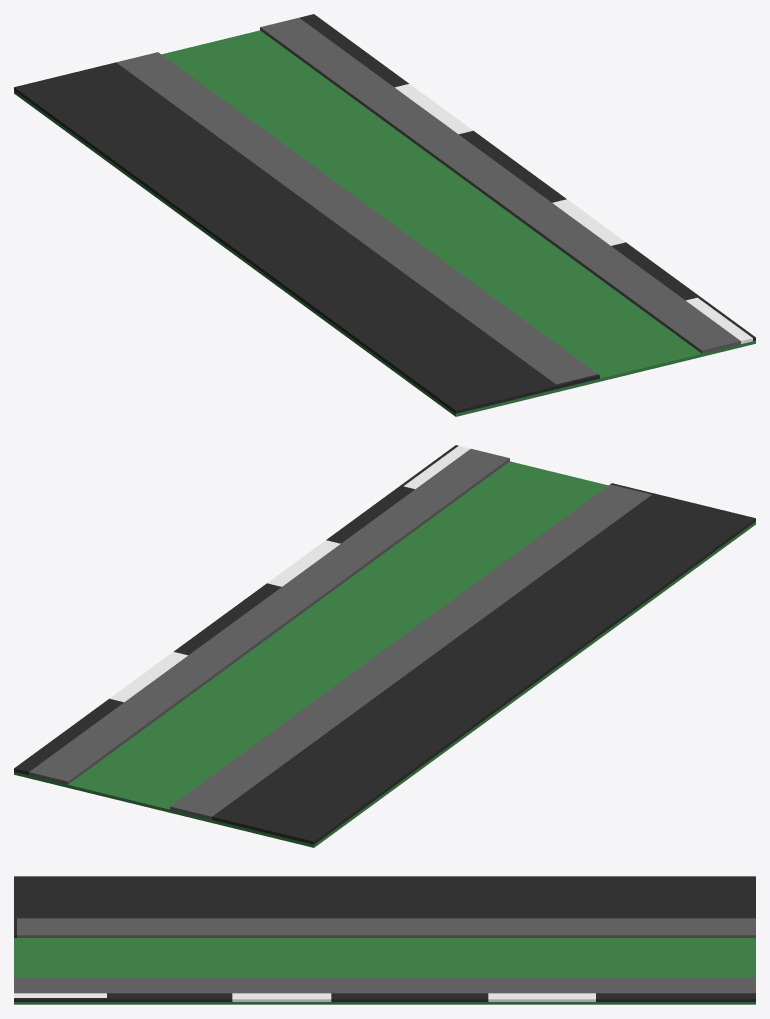
File: RoadLeft-0-Road6.obj
3 renders of one model, top to bottom at view 1: azimuth 30°, elevation 25°; view 2: azimuth 150°, elevation 25°; view 3: azimuth 270°, elevation 25°, orthographic. The views are drawn at different scales.
Visible parts, largest first — view 1: Road6; view 2: Road6; view 3: Road6.
Boxes of the visible parts, x1,y1,x2,y2 form: Road6: (14,14,755,416); Road6: (14,445,755,847); Road6: (14,876,755,1004).
Size of the model in its own units: 10 by 0.2 by 25.5.
1 material, 1 textured.
